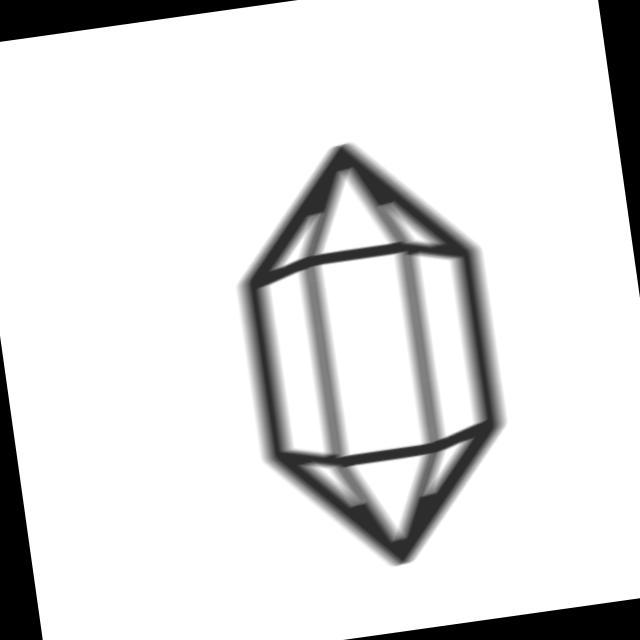crystal: (207, 116, 532, 594)
